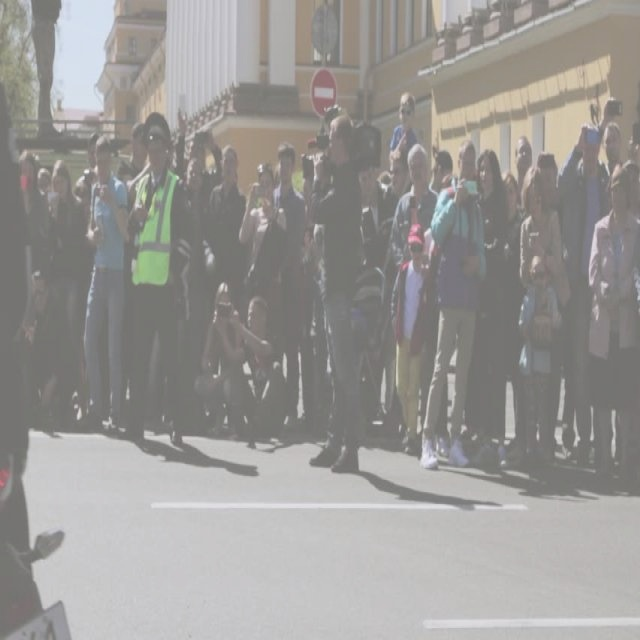pessoa: (122, 109, 193, 447), (306, 108, 370, 476), (420, 138, 488, 470), (552, 122, 612, 466), (585, 162, 639, 498), (458, 146, 509, 454), (82, 134, 132, 438), (262, 138, 309, 428), (212, 293, 290, 447), (116, 120, 154, 428), (378, 142, 414, 446), (516, 253, 562, 467), (48, 156, 86, 412), (388, 221, 429, 458), (192, 278, 247, 442), (0, 82, 20, 460), (24, 267, 69, 432), (390, 140, 440, 271), (184, 157, 212, 388), (518, 164, 566, 292), (238, 160, 288, 282), (206, 144, 247, 283), (357, 146, 400, 266), (301, 153, 329, 327), (175, 104, 224, 196), (75, 126, 102, 225), (598, 94, 625, 178), (388, 90, 418, 156), (622, 117, 640, 216), (502, 173, 526, 246), (513, 134, 533, 218), (535, 149, 559, 211), (19, 148, 40, 214), (429, 146, 454, 194), (36, 166, 54, 206), (73, 174, 89, 208)
